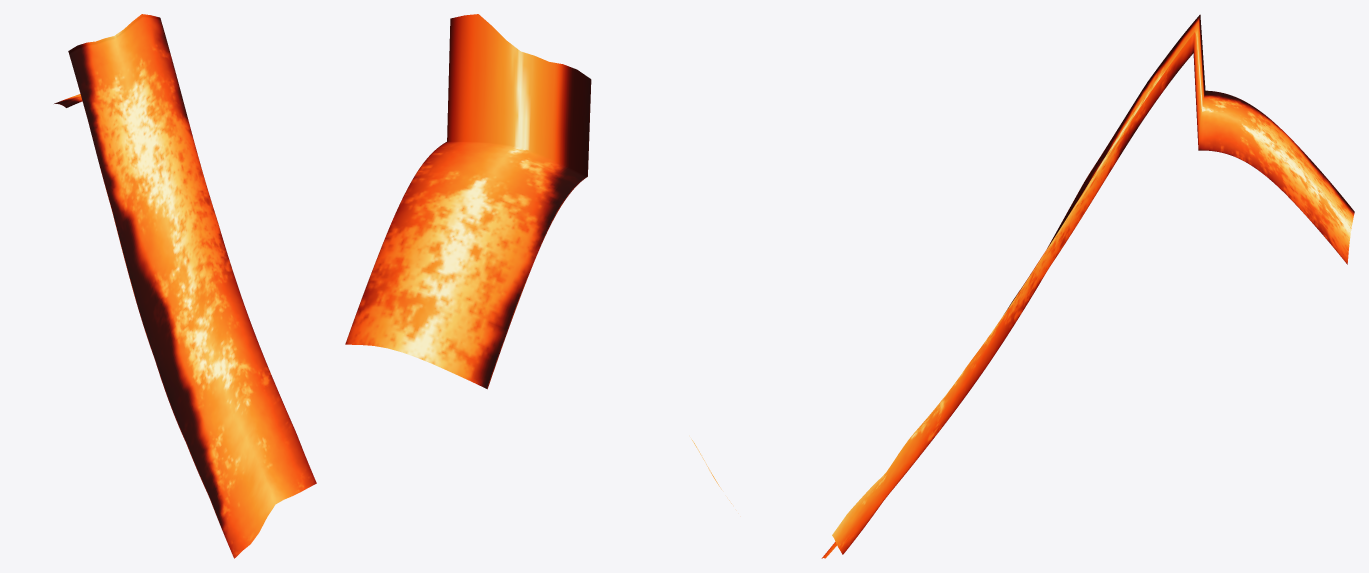
Rendered from flow_2_0.glb.
3 renders of one model, left to right at view 1: azimuth 30°, elevation 25°; view 2: azimuth 150°, elevation 25°; view 3: azimuth 270°, elevation 25°, orthographic. The views are drawn at different scales.
Bounding box in the file's own units: 2.78 × 10.06 × 8.69.
